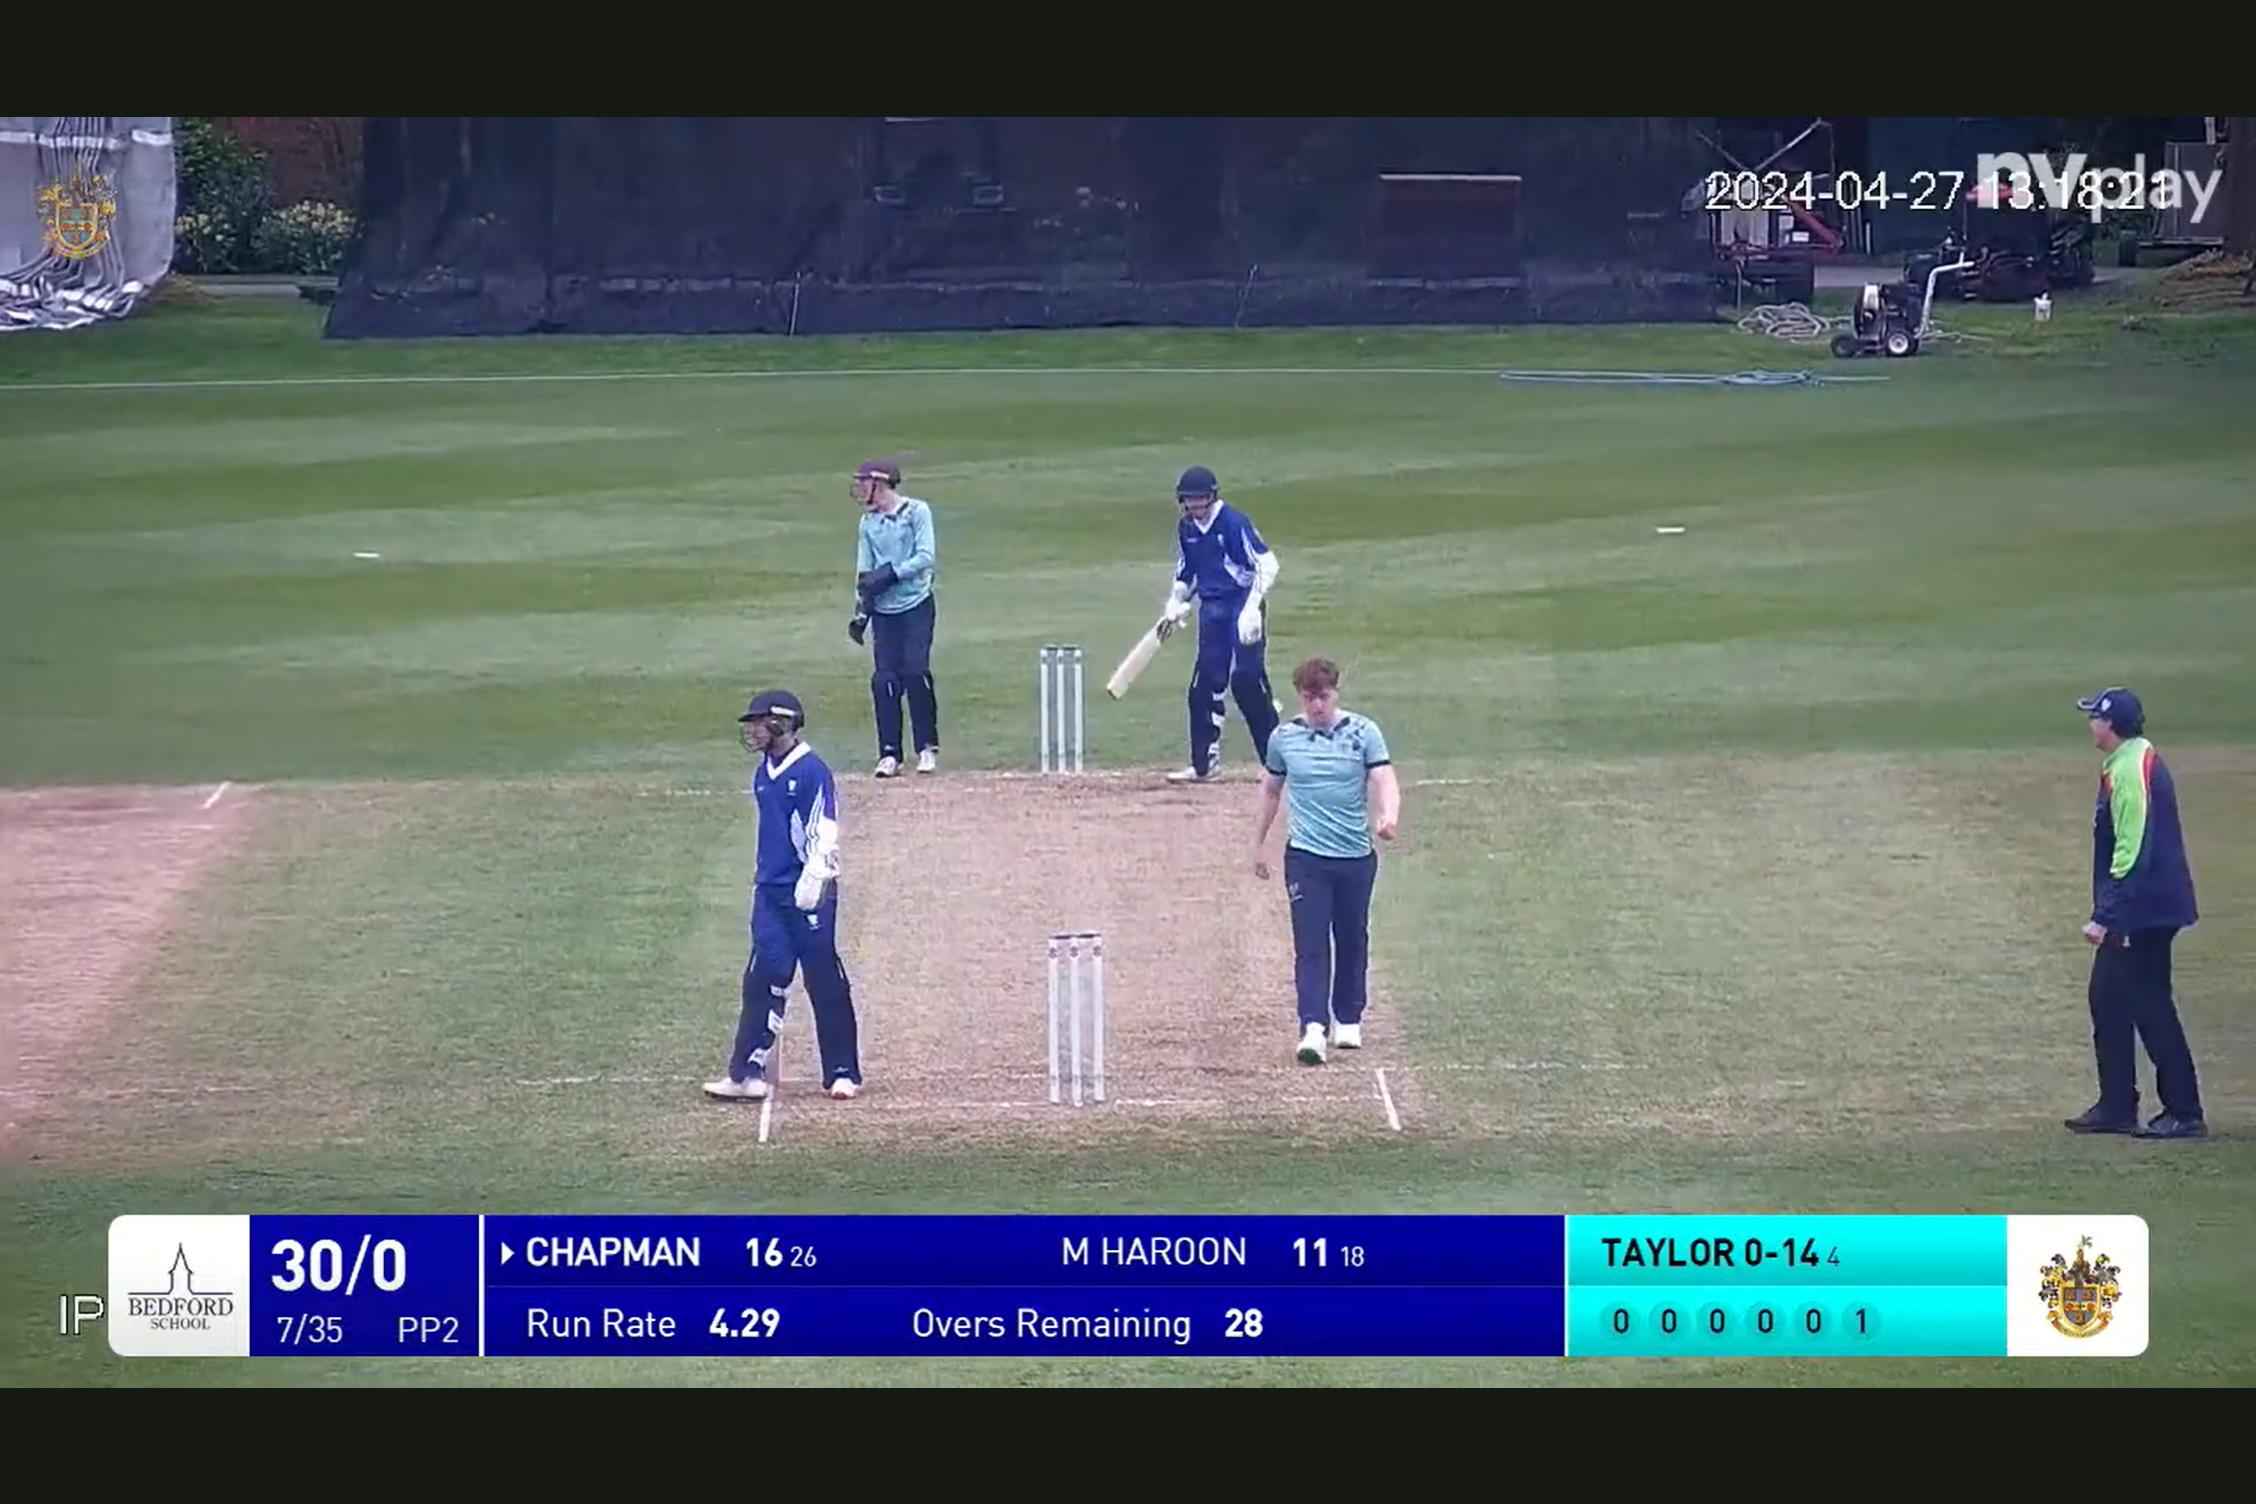bowler walking back: (1209, 653, 1432, 1079)
stumps: (999, 903, 1130, 1115)
umpire: (2026, 678, 2217, 1167)
wicket keeper: (807, 453, 980, 791)
